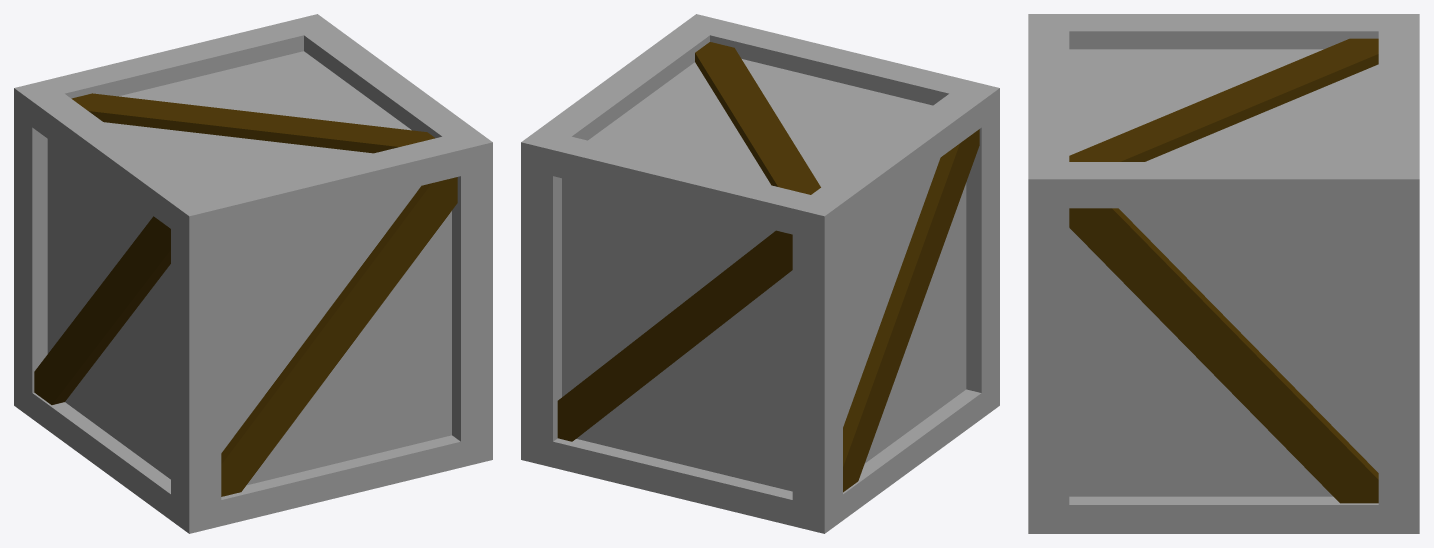
The model's file is WoodenCrate.fbx.
The picture shows the model from 3 angles, left to right: view 1: azimuth 30°, elevation 25°; view 2: azimuth 150°, elevation 25°; view 3: azimuth 270°, elevation 25°; orthographic projection. The views are drawn at different scales.
Parts seen in each view (by area): view 1: WoodenCrateMain, WoodenCratePlank3, WoodenCratePlank4, WoodenCratePlank1; view 2: WoodenCrateMain, WoodenCratePlank6, WoodenCratePlank1, WoodenCratePlank4; view 3: WoodenCrateMain, WoodenCratePlank2, WoodenCratePlank4.
Boxes of the visible parts, bbox=[...] form: WoodenCrateMain: bbox=[14, 14, 492, 533]; WoodenCratePlank3: bbox=[221, 177, 457, 496]; WoodenCratePlank4: bbox=[71, 93, 435, 153]; WoodenCratePlank1: bbox=[34, 216, 170, 404]; WoodenCrateMain: bbox=[521, 14, 999, 533]; WoodenCratePlank6: bbox=[557, 230, 792, 441]; WoodenCratePlank1: bbox=[843, 129, 979, 492]; WoodenCratePlank4: bbox=[695, 42, 820, 194]; WoodenCrateMain: bbox=[1028, 14, 1419, 533]; WoodenCratePlank2: bbox=[1069, 208, 1378, 503]; WoodenCratePlank4: bbox=[1069, 38, 1378, 161].
Bounding box in the file's own units: 1 × 1 × 1.
